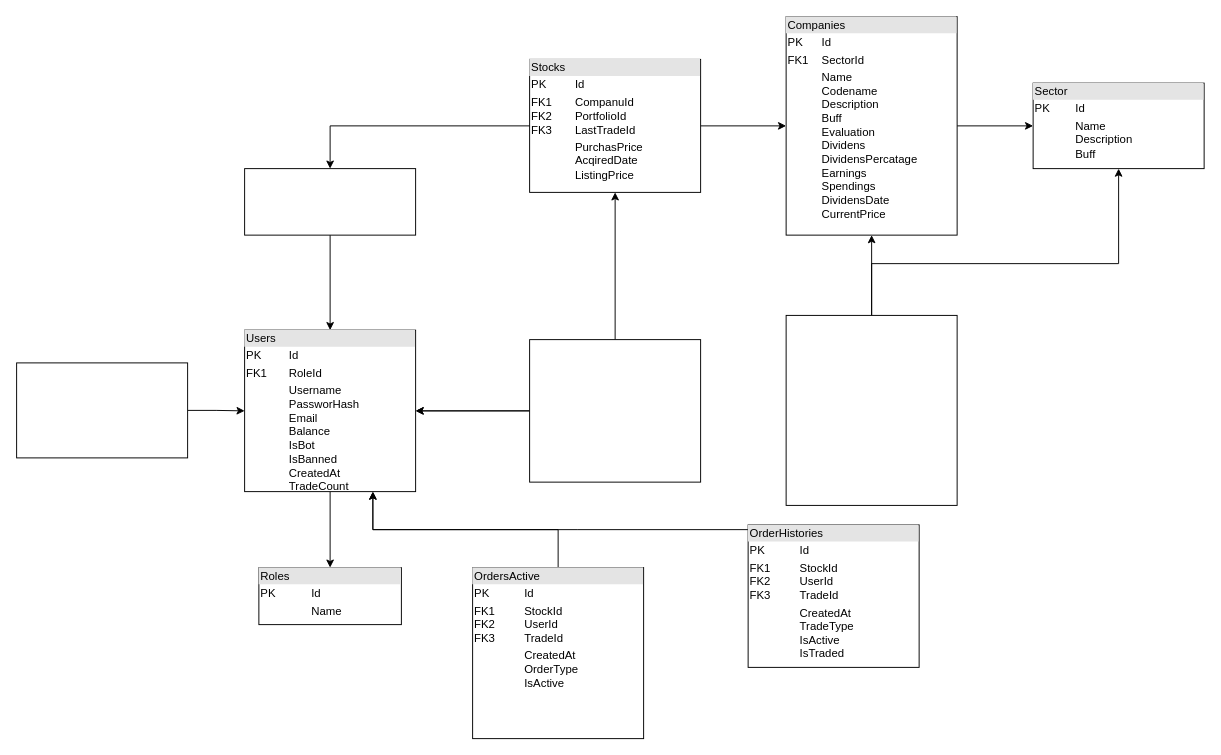
This 1221x755 diagram has some shape labels left out. Each missing label, with the centre of its shape:
BotConfigs FK1 UserID TradeFrequancy RandomnessFactor: [102,410]
Events PK Id FK1 FK2 CompanyId SectorId Headline Description Effect EventDate: [871,409]
Portfolios FK1 UserId CreatedAt LastUpdatedAt: [330,201]
Trades PK Id FK1 FK2 FK3 StockId SellerId BuyerId Price Date: [615,410]
